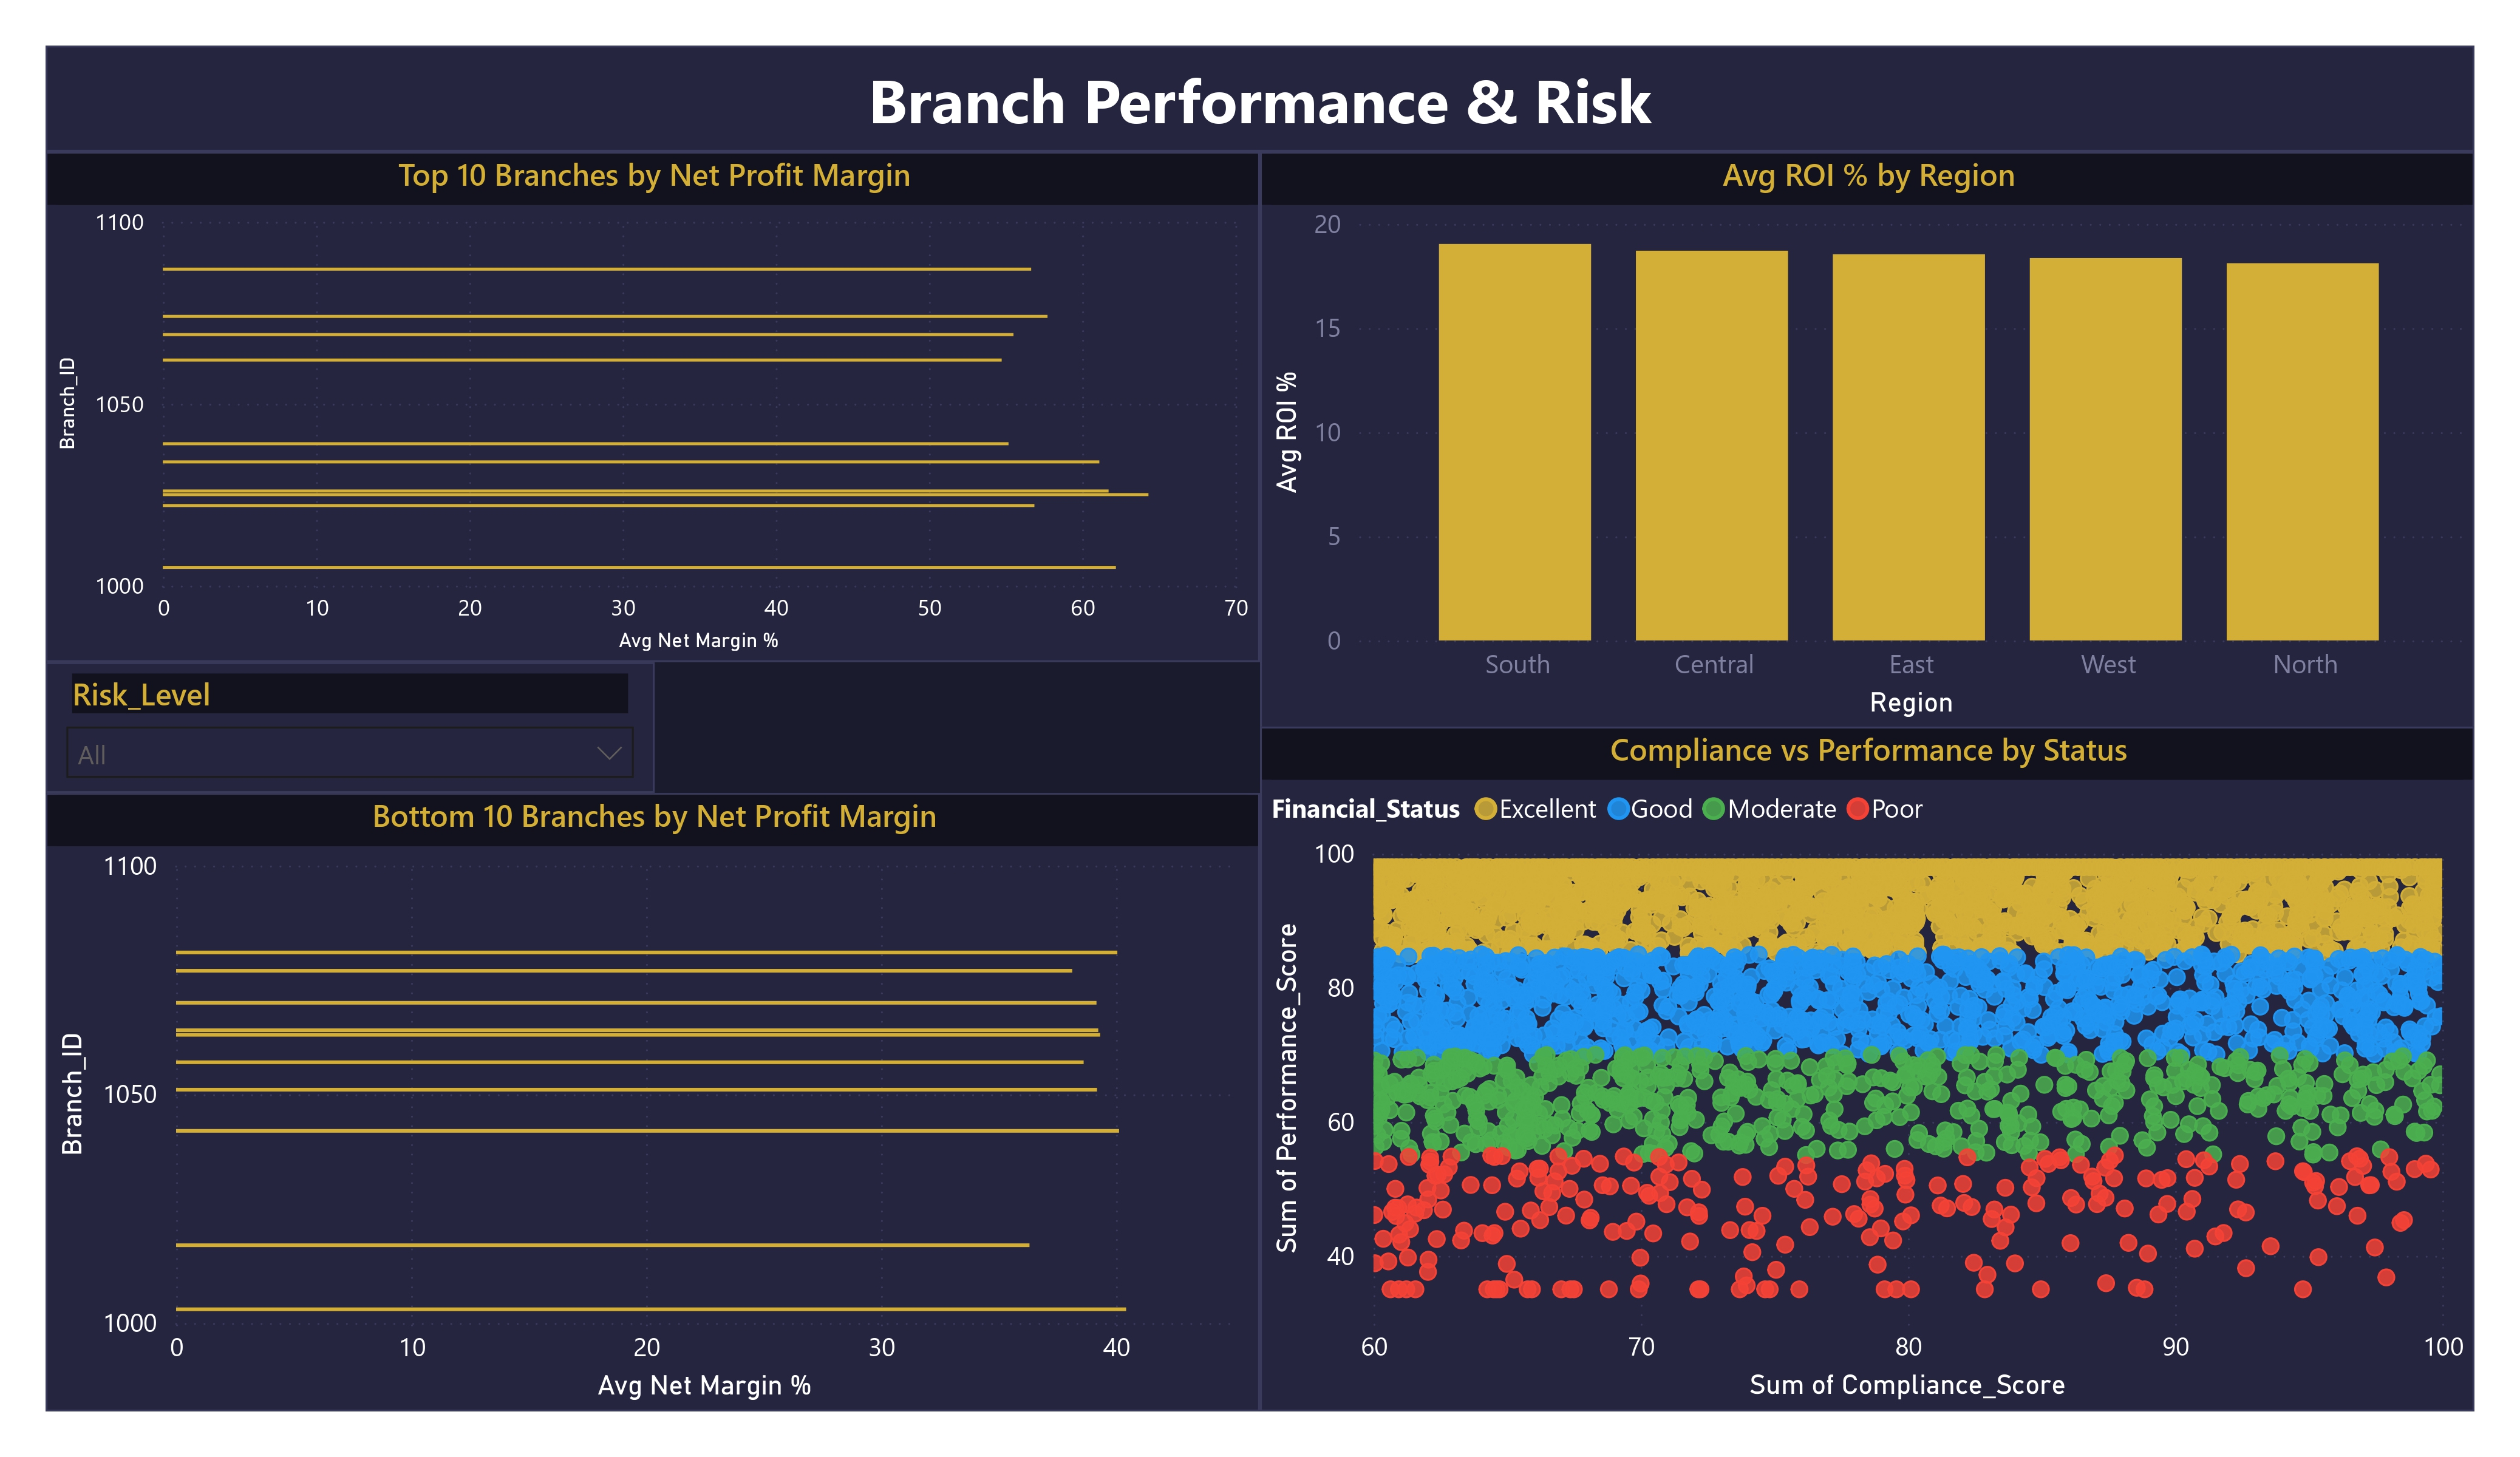

What the dashboard file says about the page in this screenshot:
{"tool":"powerbi","page":{"name":"Branch Performance & Risk","canvas":[1280,720],"ordinal":2},"visuals":[{"type":"textbox","box":[0,0,1280.3,55.9],"z":0},{"type":"clusteredBarChart","title":"Top 10 Branches by Net Profit Margin","fields":{"Category":["financial_data.Branch_ID"],"Y":["financial_data.Avg Net Margin %"]},"box":[0,55.7,640.1,269.4],"z":1000},{"type":"clusteredBarChart","title":"Bottom 10 Branches by Net Profit Margin","fields":{"Category":["financial_data.Branch_ID"],"Y":["financial_data.Avg Net Margin %"]},"box":[0,394.1,640.1,326.2],"z":2000},{"type":"clusteredColumnChart","fields":{"Y":["financial_data.Avg ROI %"],"Category":["financial_data.Region"]},"box":[640.1,55.7,640.1,303.9],"z":3000},{"type":"scatterChart","title":"Compliance vs Performance by Status","fields":{"X":["Sum(financial_data.Compliance_Score)"],"Y":["Sum(financial_data.Performance_Score)"],"Category":["financial_data.Transaction_ID"],"Series":["financial_data.Financial_Status"]},"box":[640.1,359.5,640.1,360.9],"z":4000},{"type":"slicer","fields":{"Values":["financial_data.Risk_Level"]},"box":[0,325,320.6,69],"z":5000}]}

Visuals, with their boxes on the page's 1280x720 design canvas (x1, y1, x2, y2). These are canvas units, not pixel positions in the 2520x1457 screenshot, which may show the page scaled, cropped or inside an application window:
textbox: (0,0,1280,56)
"Top 10 Branches by Net Profit Margin" clusteredBarChart: (0,56,640,325)
"Bottom 10 Branches by Net Profit Margin" clusteredBarChart: (0,394,640,720)
clusteredColumnChart - financial_data.Avg ROI % x financial_data.Region: (640,56,1280,360)
"Compliance vs Performance by Status" scatterChart: (640,360,1280,720)
slicer - financial_data.Risk_Level: (0,325,321,394)
